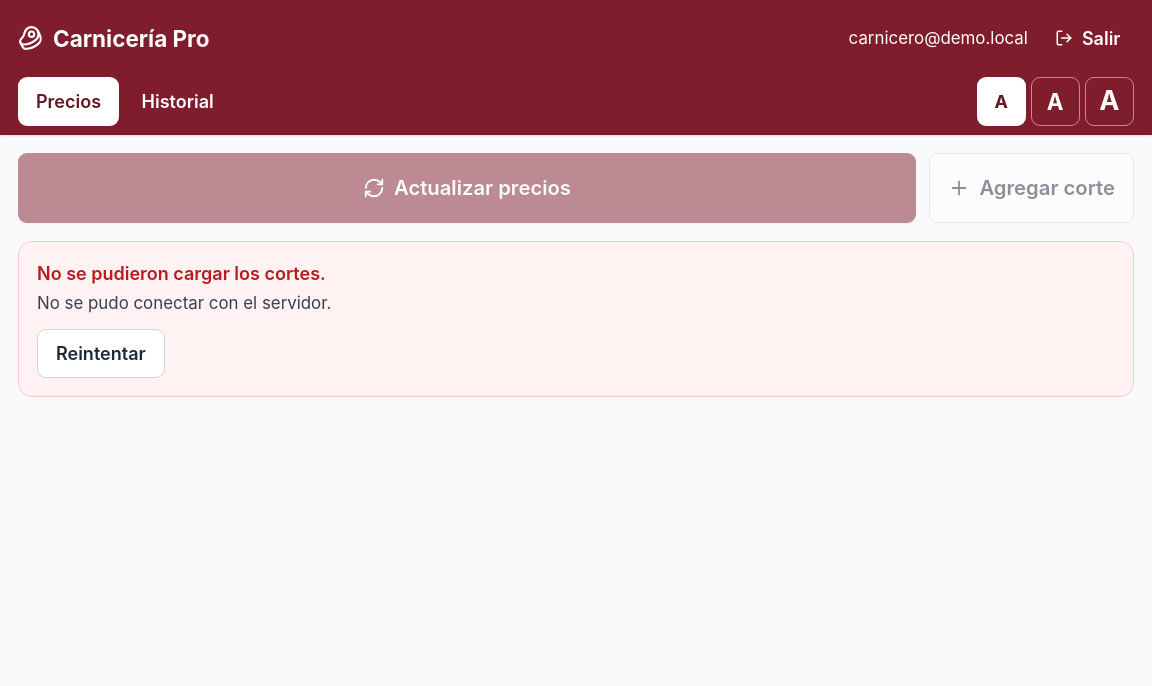
Test case: DashboardPage › muestra el error de carga y permite reintentar
Expected: the message shows "No se pudo conectar con el servidor.", [37,293,331,313]
Click the button "Reintentar" at [101, 353], box [37,329,165,378]
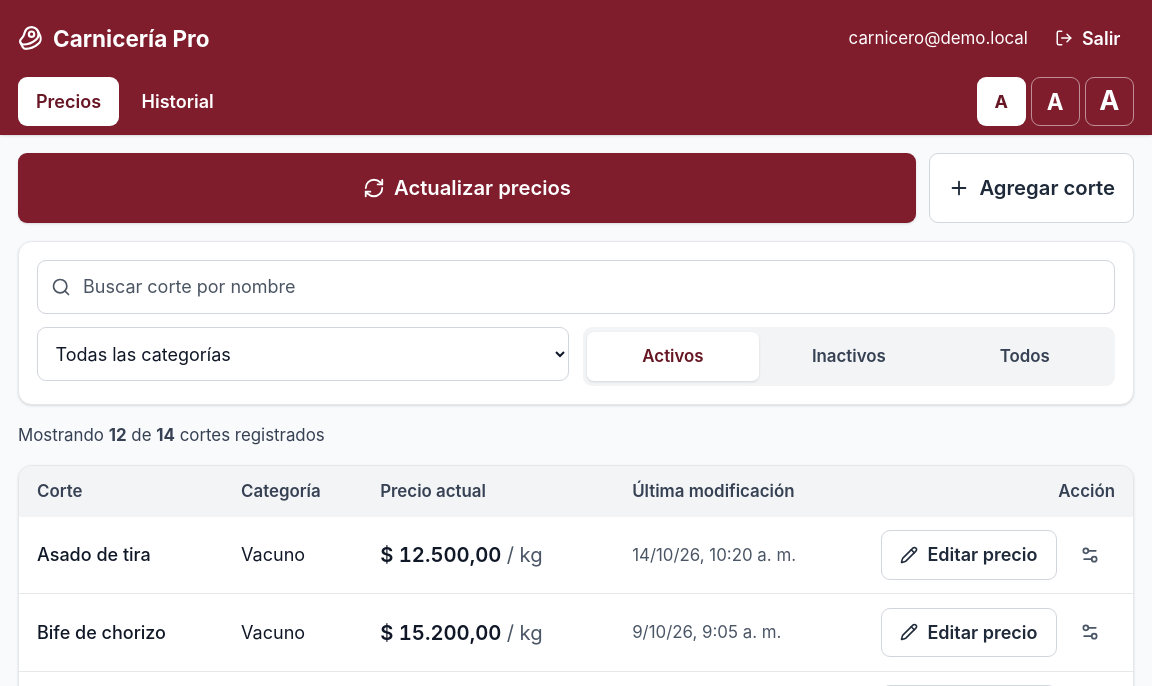
Expected: the text "Asado de tira" is shown, [19,517,223,594]
